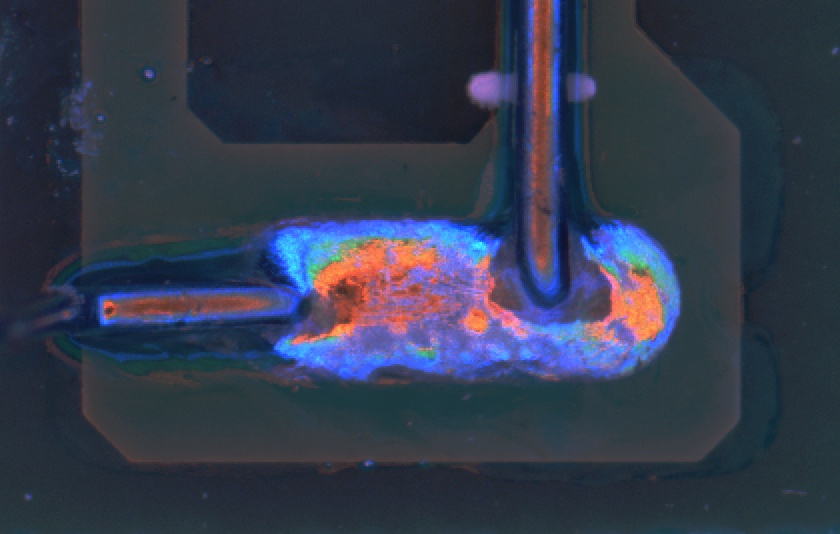spring: (1, 277, 315, 338), (509, 2, 568, 314)
spring_pin: (279, 215, 677, 390)
